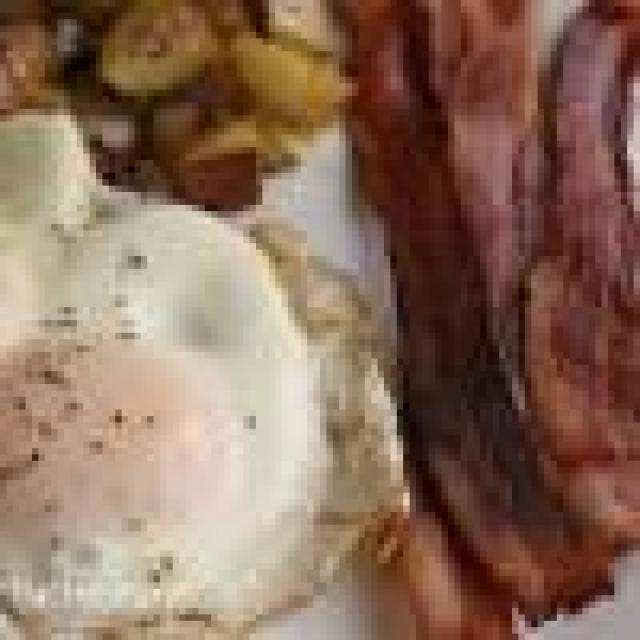Bacon: (426, 0, 558, 411)
Egg: (1, 116, 305, 639)
